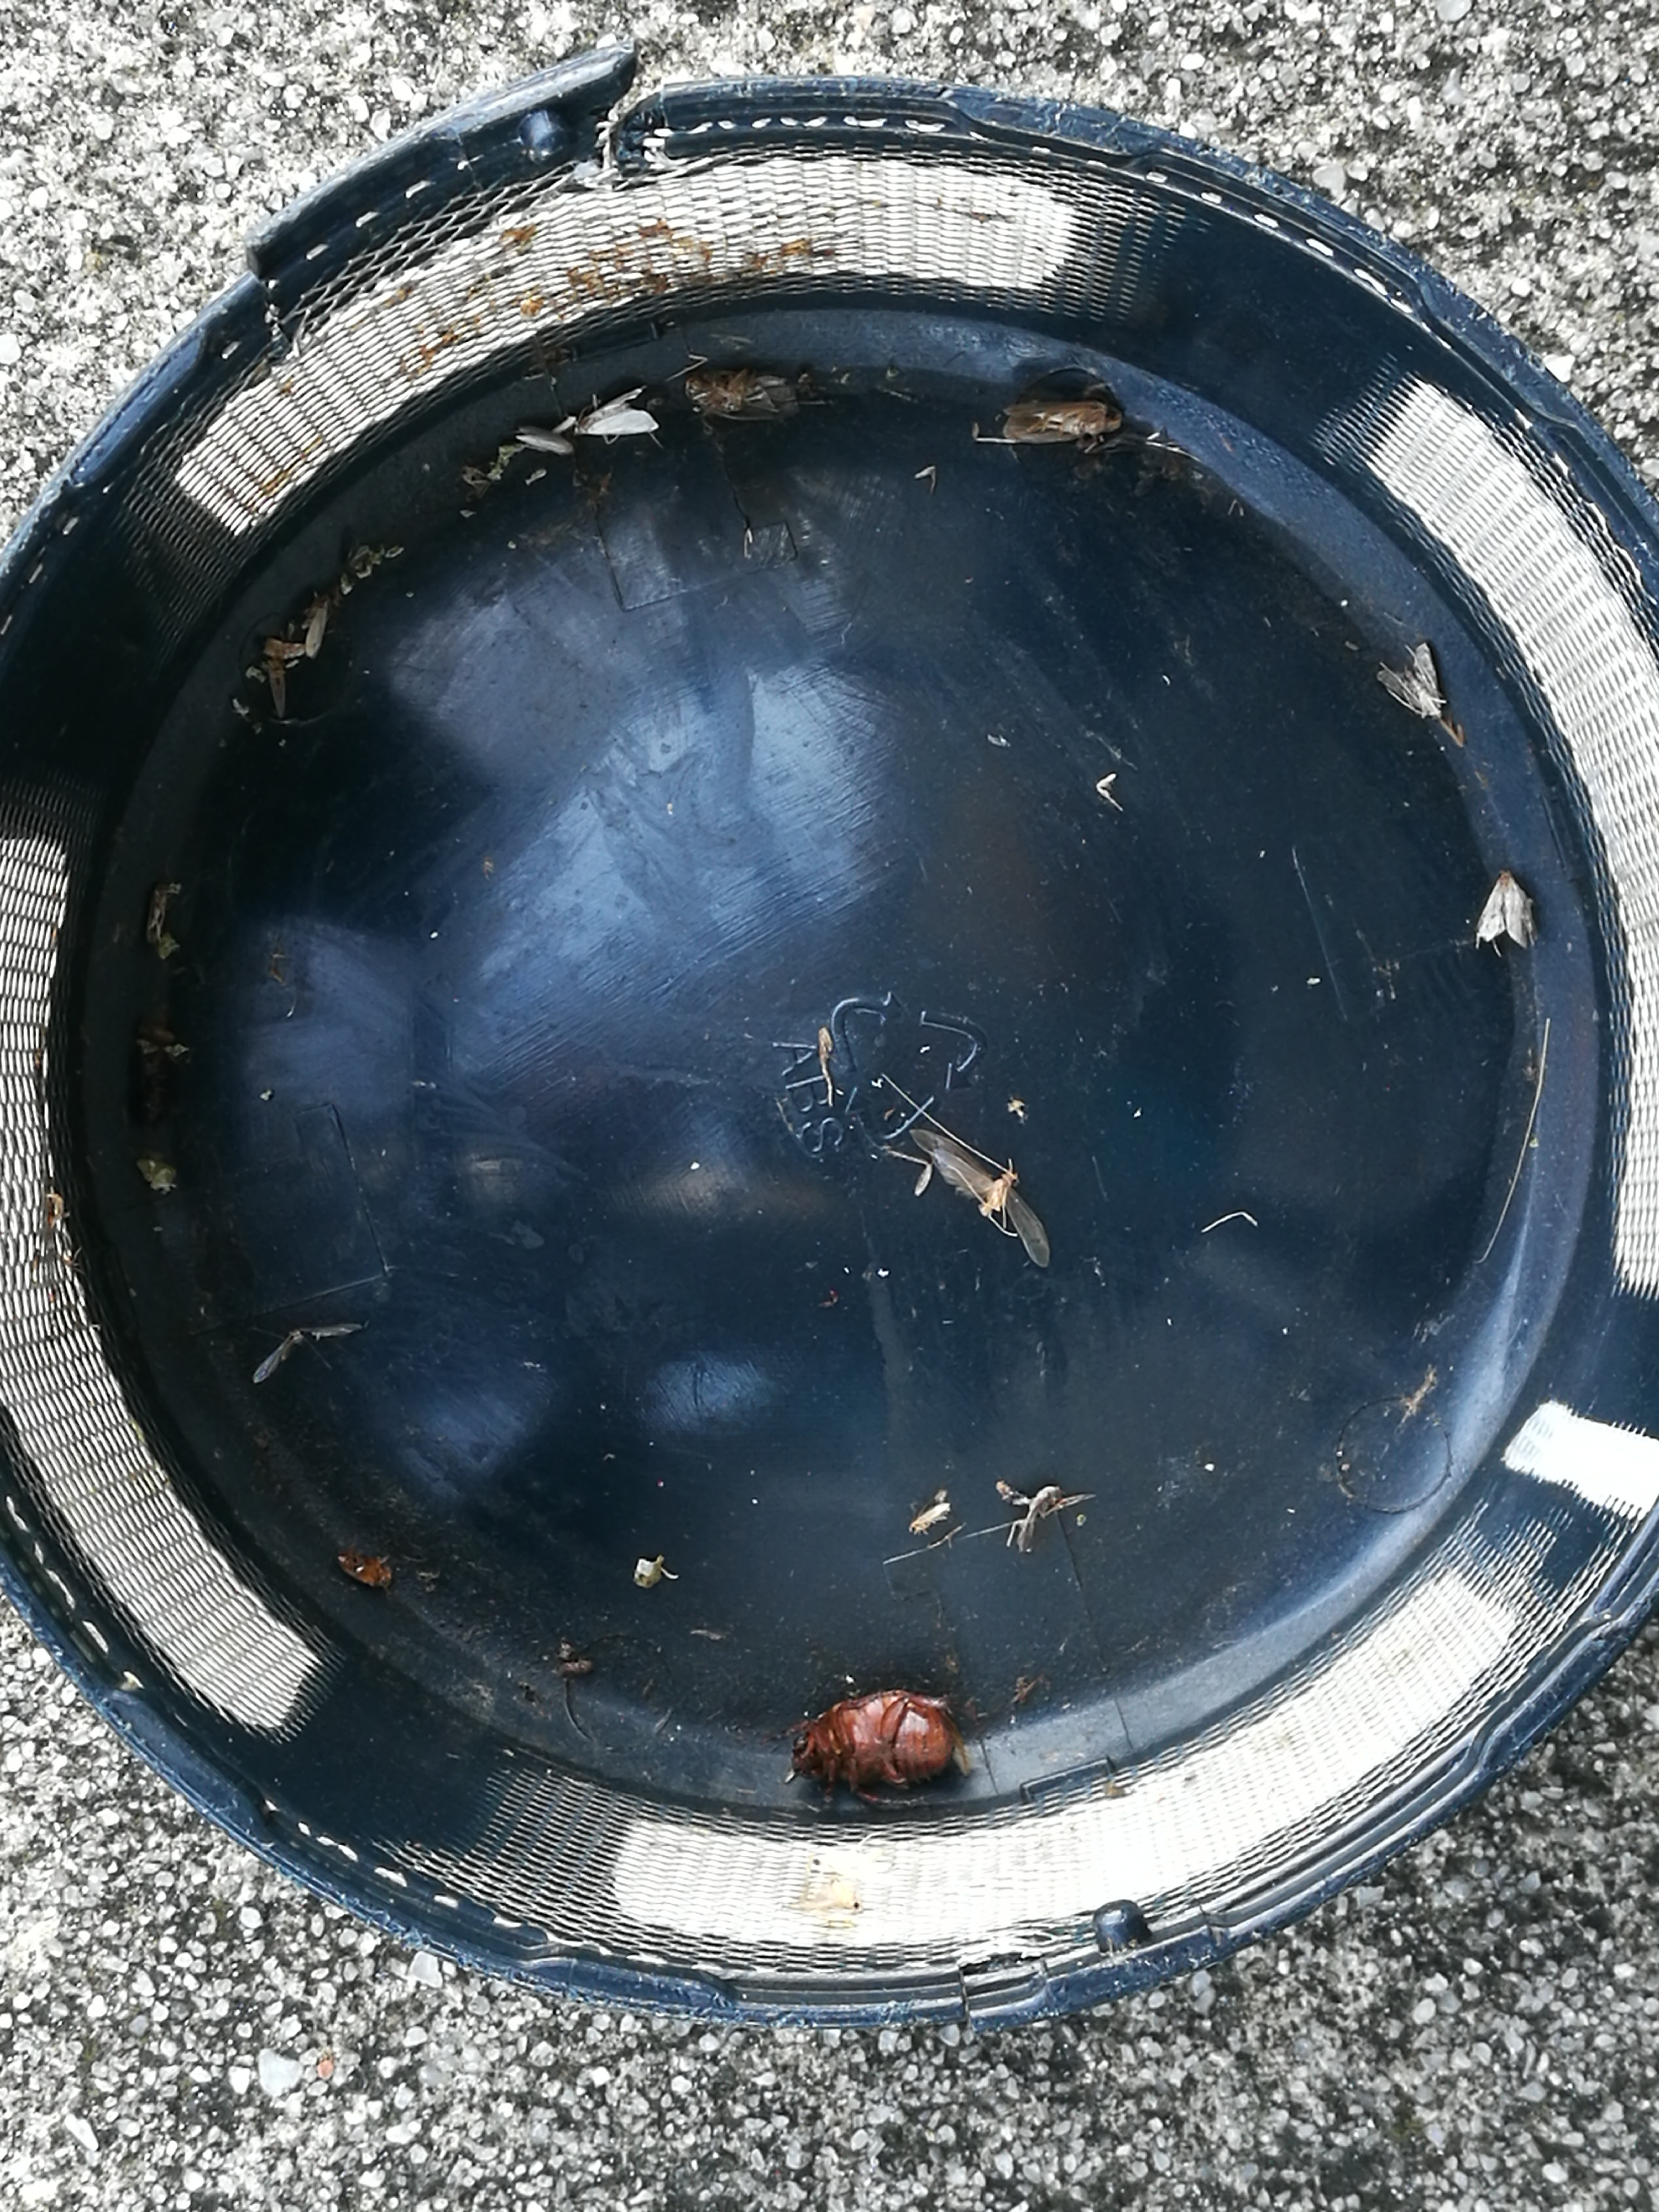beetle: (793, 1689, 955, 1784), (336, 1552, 392, 1587)
mosquito: (305, 590, 329, 658), (516, 427, 573, 455), (145, 883, 166, 944), (908, 1503, 948, 1534)
moth: (910, 1129, 1051, 1266), (685, 371, 800, 420), (1375, 643, 1443, 719), (1002, 401, 1122, 442), (1474, 869, 1530, 949), (577, 385, 659, 435)
